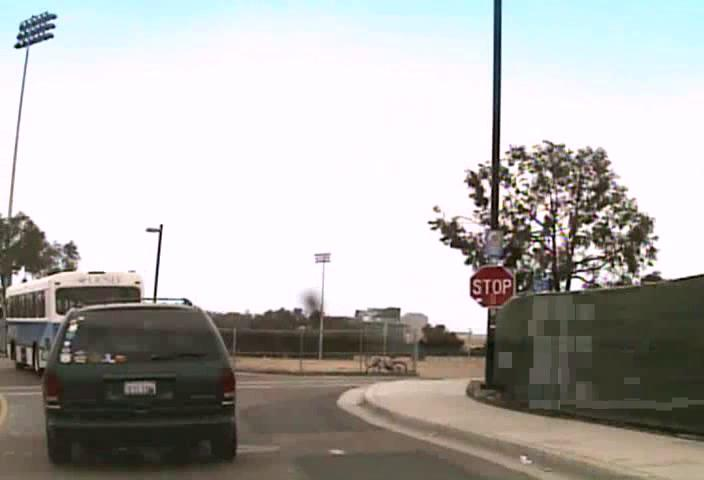stop: (468, 264, 515, 308)
